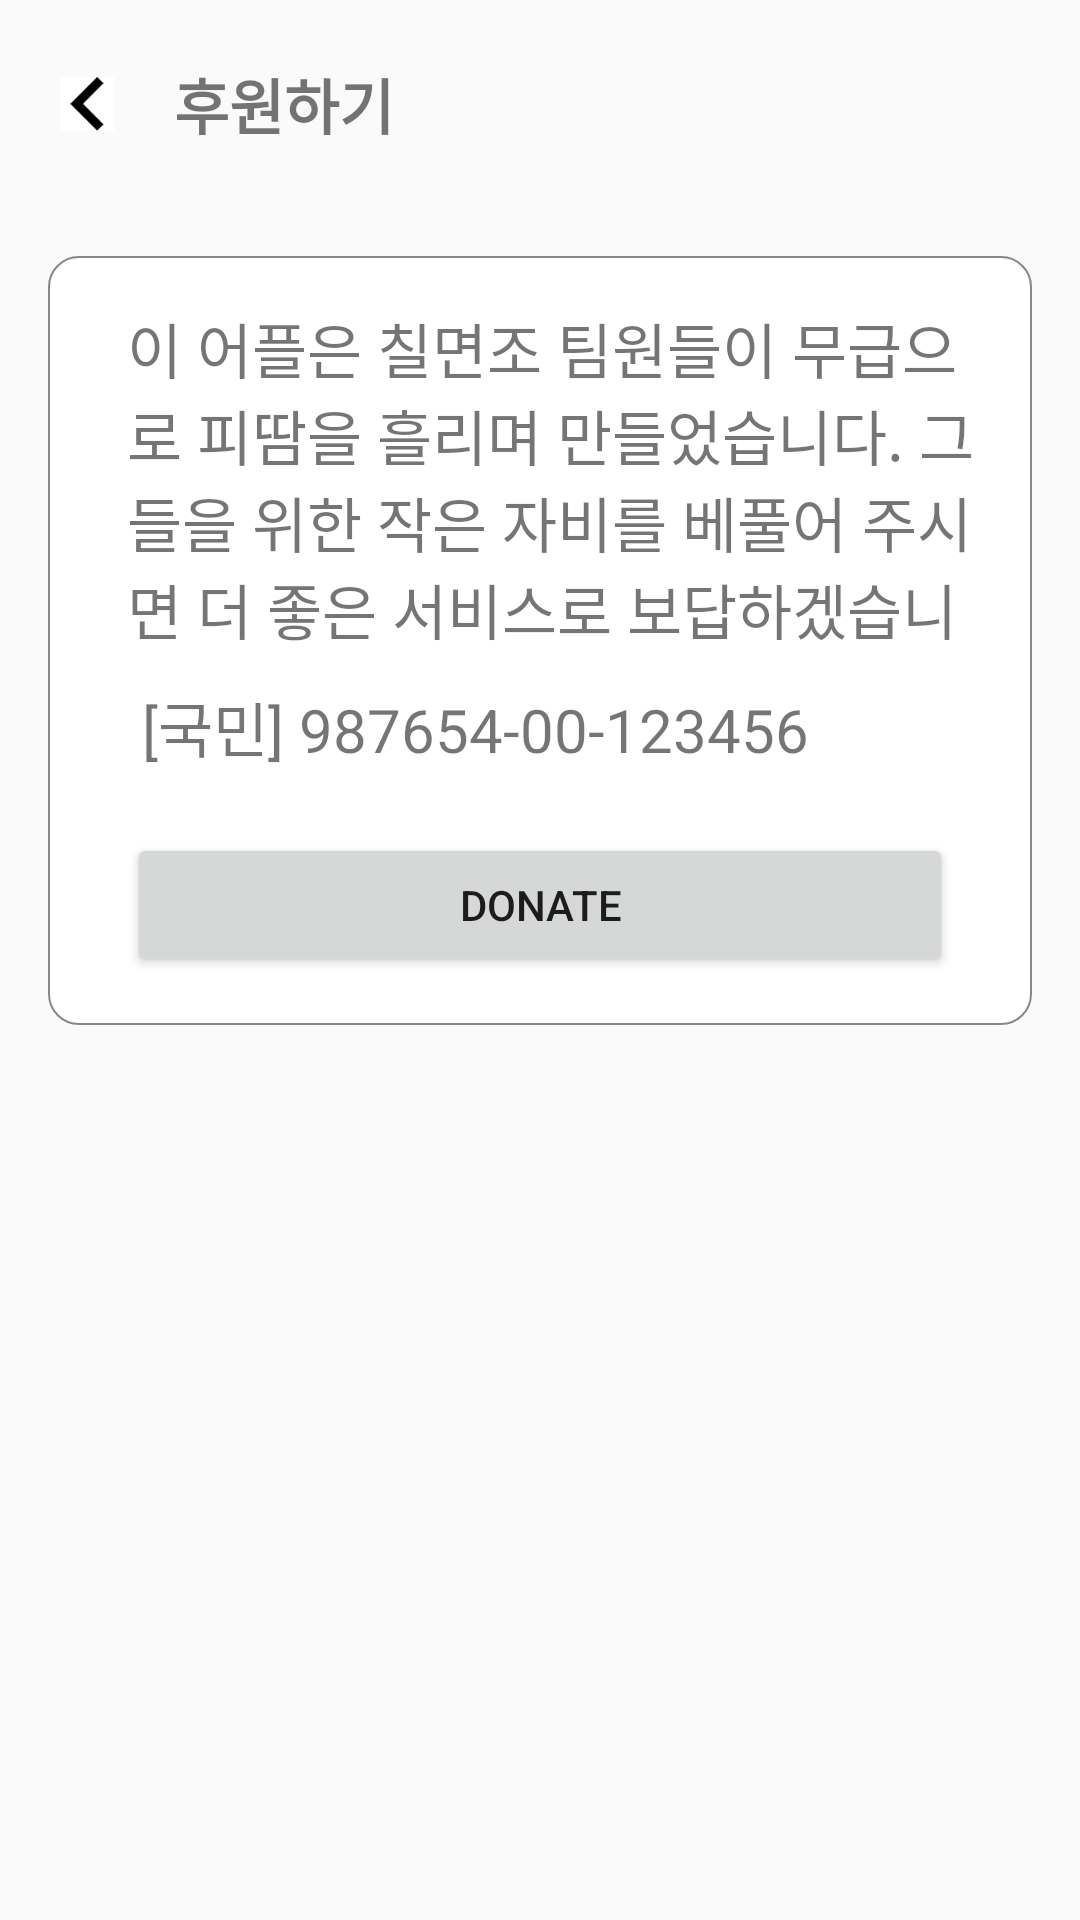

Where icons sit on this 1080 × 1920 app screen, as (x1, y1, x2, y2):
arrow left: (70, 77, 104, 131)
